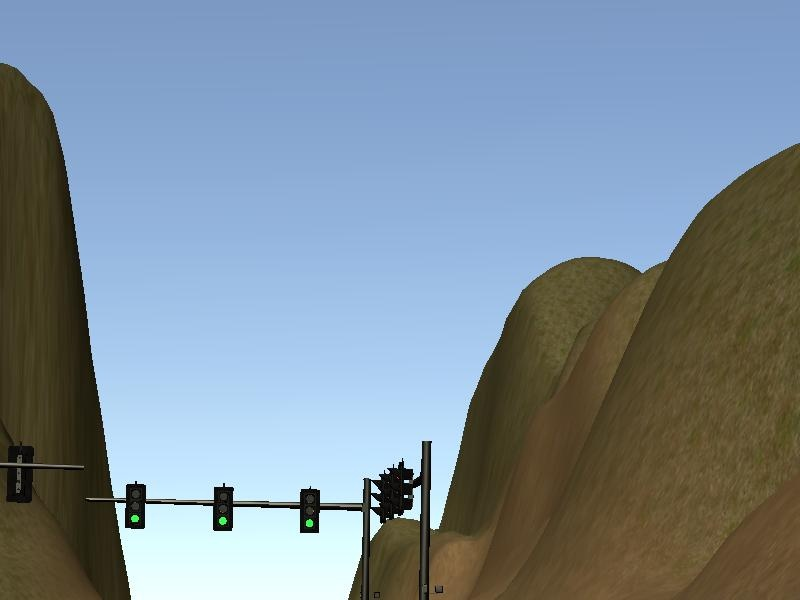green: (296, 488, 324, 538), (124, 482, 148, 529), (213, 485, 233, 532)
